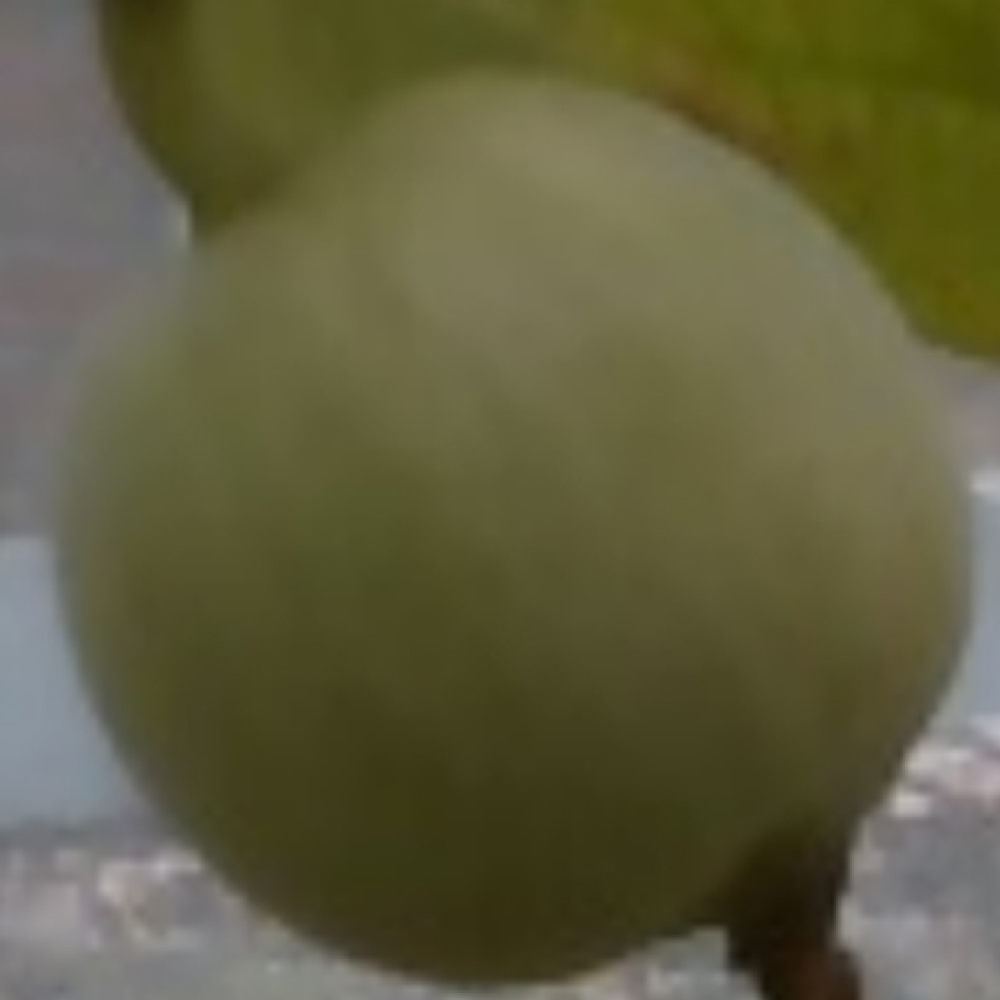melon: (47, 61, 983, 991)
